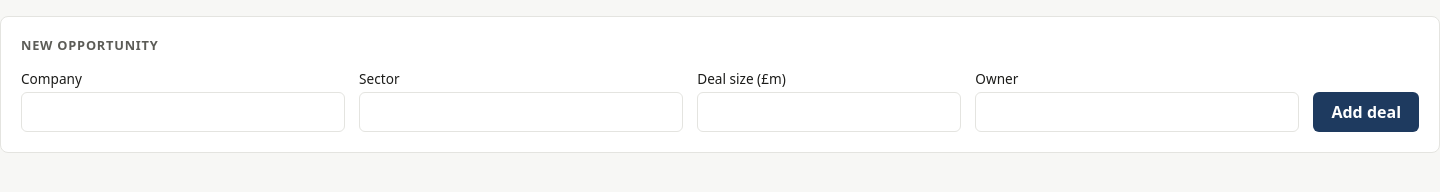
it: AddDealForm › rejects a size of -5
This screenshot has width=1440, height=192.
In the field labelled "Company": {"x": 183, "y": 112} [21,92,345,132], type "Zero Co"
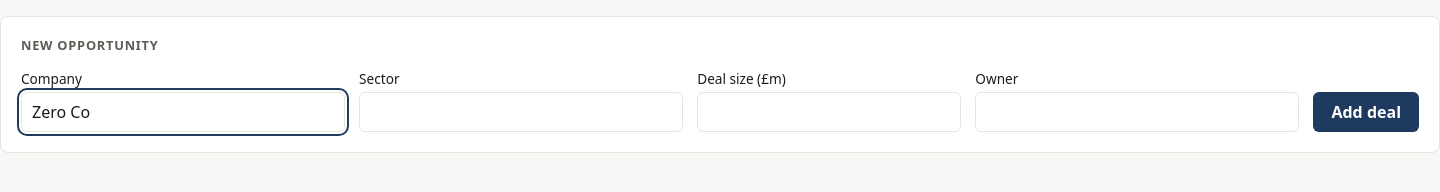
In the field labelled "Deal size (£m)": {"x": 829, "y": 112} [697,92,961,132], type "-5"
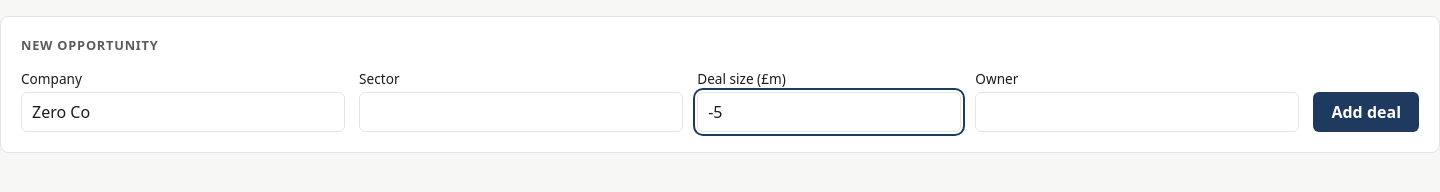
Click the button "Add deal": {"x": 1366, "y": 112} [1313,92,1419,132]
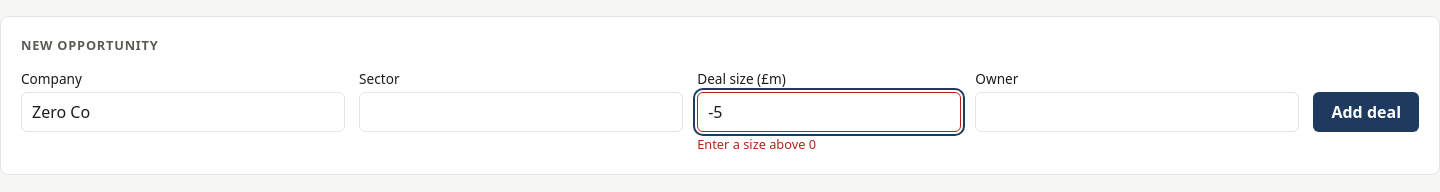
Now the message reads "Enter a size above 0", box [697,135,816,153]
